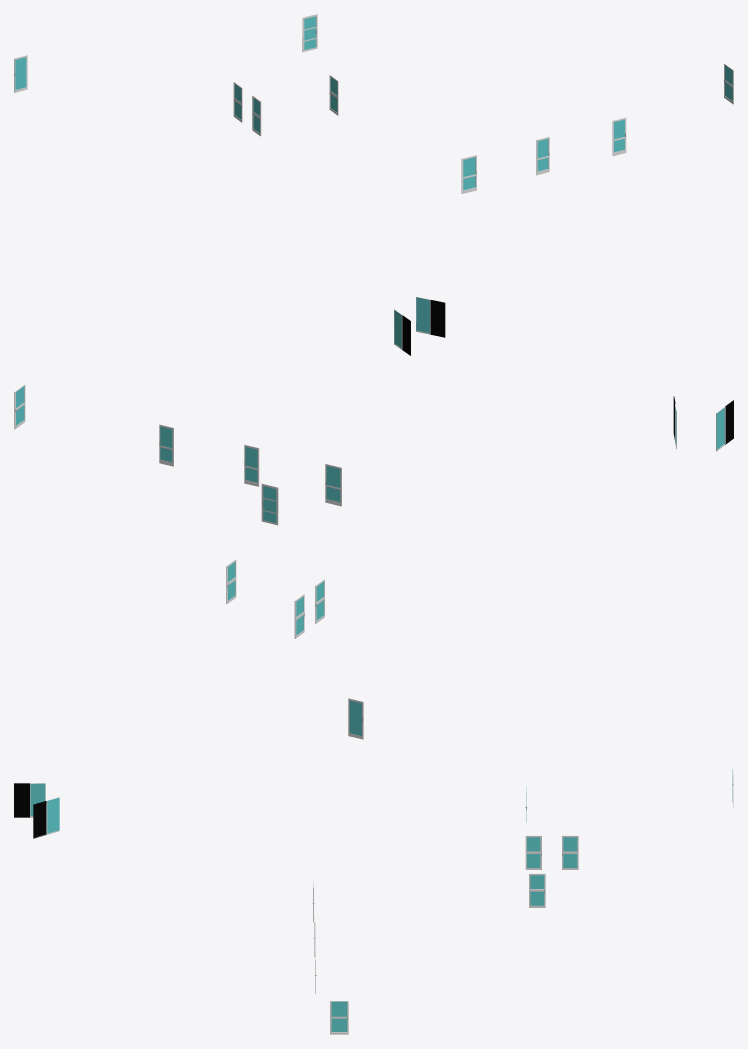
File: rc0_doors.fbx
The picture shows the model from 3 angles, top to bottom: view 1: azimuth 30°, elevation 25°; view 2: azimuth 150°, elevation 25°; view 3: azimuth 270°, elevation 25°; orthographic projection. The views are drawn at different scales.
Parts seen in each view (by area): view 1: rc_dvere.005, rc_pos_dvere_12, rc_dvere.001; view 2: rc_dvere.001, rc_dvere.005, rc_dvere.012, rc_dvere, rc_dvere.011; view 3: rc_dvere.010, rc_dvere.004, rc_dvere.003, rc_dvere.002, rc_pos_dvere_11, rc_pos_dvere_02, rc_pos_dvere_12.
Part boxes in pixels (<box>): rc_dvere.005: <box>461,155,476,193</box>; rc_pos_dvere_12: <box>430,300,445,337</box>; rc_dvere.001: <box>302,14,317,52</box>; rc_dvere.001: <box>261,483,278,525</box>; rc_dvere.005: <box>325,463,341,506</box>; rc_dvere.012: <box>244,444,259,486</box>; rc_dvere: <box>348,698,363,739</box>; rc_dvere.011: <box>159,424,173,466</box>; rc_dvere.010: <box>330,1001,348,1034</box>; rc_dvere.004: <box>529,873,545,907</box>; rc_dvere.003: <box>562,835,578,869</box>; rc_dvere.002: <box>525,835,541,869</box>; rc_pos_dvere_11: <box>14,783,29,817</box>; rc_pos_dvere_02: <box>46,797,59,834</box>; rc_pos_dvere_12: <box>33,801,46,838</box>.
Size of the model in its own units: 3297 by 667 by 4076.
